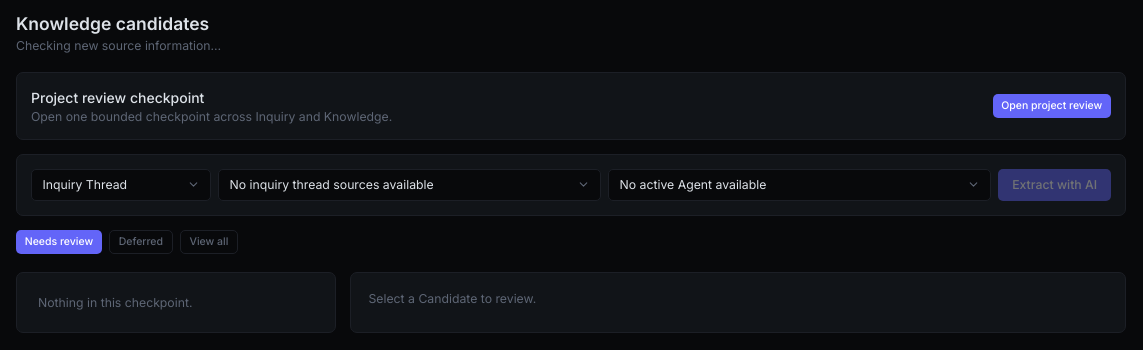
it: Decision and Knowledge Review Project surfaces › selects Knowledge extraction source and Agent by name
This screenshot has width=1143, height=350.
Step 1. Click the button with aria-label "Extraction source" → (410, 185), box [218, 169, 601, 200]
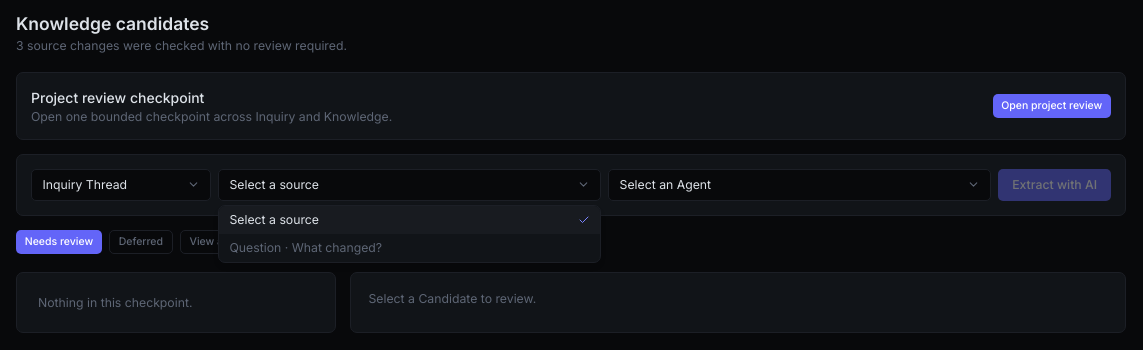
Result: the option "Question · What changed?" is shown at [219, 234, 600, 262]
Step 2. Click the button with aria-label "Extraction agent" → (665, 184), box [608, 169, 991, 200]
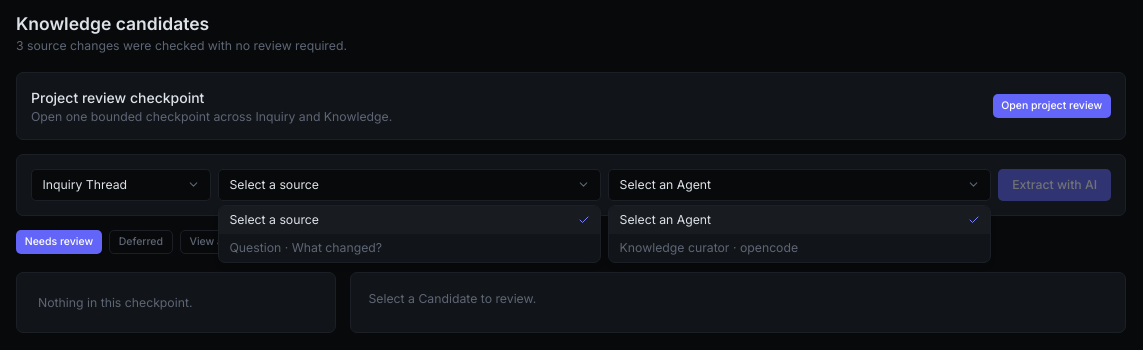
Result: the option "Knowledge curator · opencode" is shown at [609, 234, 990, 262]
